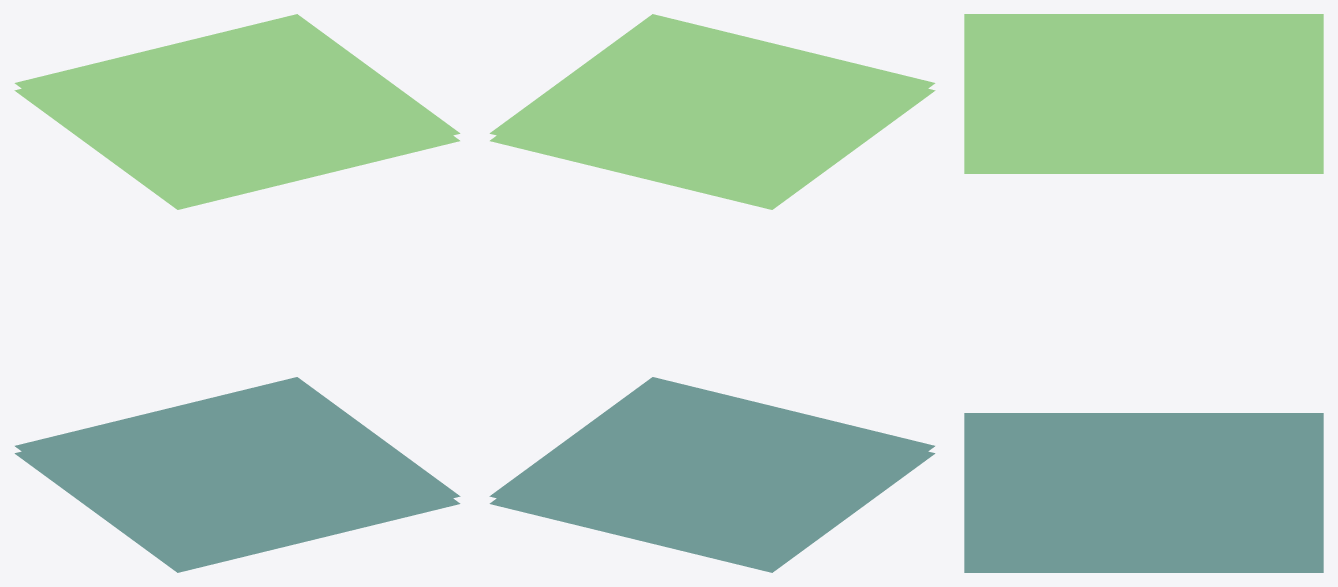
Rendered from Wall_2x2_no_sides.fbx.
The picture shows the model from 3 angles, left to right: view 1: azimuth 30°, elevation 25°; view 2: azimuth 150°, elevation 25°; view 3: azimuth 270°, elevation 25°; orthographic projection. The views are drawn at different scales.
Visible parts, largest first — view 1: Wall_1x1_no_sides; view 2: Wall_1x1_no_sides; view 3: Wall_1x1_no_sides.
Boxes of the visible parts, bbox=[...] form: Wall_1x1_no_sides: bbox=[14, 14, 460, 572]; Wall_1x1_no_sides: bbox=[489, 14, 935, 572]; Wall_1x1_no_sides: bbox=[964, 14, 1323, 572].
Size of the model in its own units: 2 by 2.5 by 2.
